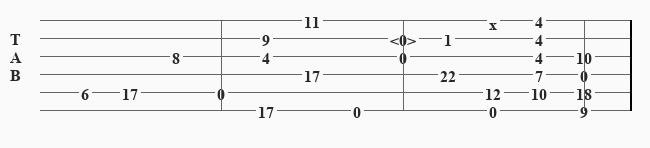0: (217, 85, 229, 100), (353, 103, 365, 118), (399, 49, 411, 64), (489, 103, 501, 118), (580, 67, 592, 82)
1: (444, 31, 456, 46)
10: (531, 85, 551, 100), (576, 49, 596, 64)
11: (304, 13, 324, 28)
12: (485, 85, 505, 100)
17: (122, 85, 142, 100), (258, 103, 278, 118), (304, 67, 324, 82)
18: (576, 85, 596, 100)
22: (440, 67, 460, 82)
4: (262, 49, 274, 64), (535, 49, 547, 64), (535, 13, 547, 28), (535, 31, 547, 46)
6: (81, 85, 93, 100)
7: (535, 67, 547, 82)
8: (172, 49, 184, 64)
9: (262, 31, 274, 46), (580, 103, 592, 118)
harmonic: (390, 31, 420, 46)
x: (489, 15, 501, 26)
